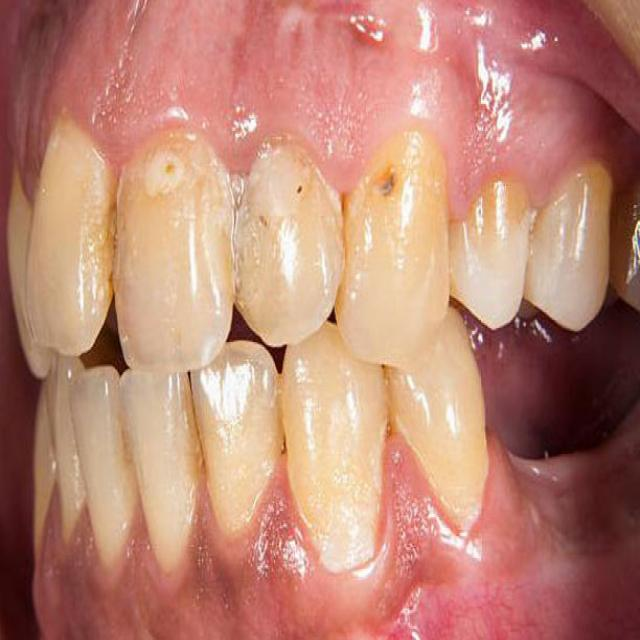caries: (364, 142, 416, 213)
